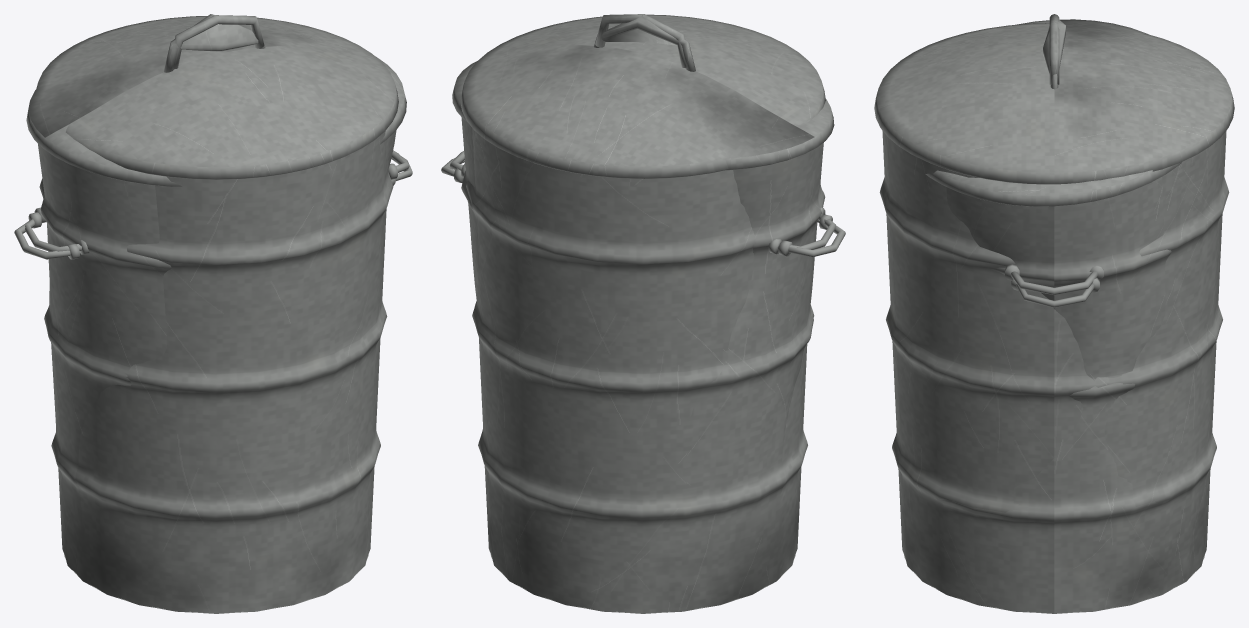
Rendered from trash_can.glb.
The picture shows the model from 3 angles, left to right: view 1: azimuth 30°, elevation 25°; view 2: azimuth 150°, elevation 25°; view 3: azimuth 270°, elevation 25°; orthographic projection.
Parts seen in each view (by area): view 1: TrashCan_Clean_can, TrashCan_Clean_lid, TrashCan_Dented_can, TrashCan_Dented_lid; view 2: TrashCan_Clean_can, TrashCan_Clean_lid, TrashCan_Dented_can, TrashCan_Dented_lid; view 3: TrashCan_Clean_can, TrashCan_Dented_can, TrashCan_Clean_lid, TrashCan_Dented_lid.
Boxes of the visible parts, x1,y1,x2,y2 form: TrashCan_Clean_can: (25, 131, 409, 613); TrashCan_Clean_lid: (36, 15, 398, 179); TrashCan_Dented_can: (14, 130, 412, 612); TrashCan_Dented_lid: (26, 14, 406, 186); TrashCan_Clean_can: (450, 128, 836, 613); TrashCan_Clean_lid: (461, 14, 825, 178); TrashCan_Dented_can: (441, 117, 845, 611); TrashCan_Dented_lid: (452, 15, 834, 170); TrashCan_Clean_can: (879, 130, 1229, 613); TrashCan_Dented_can: (921, 177, 1204, 613); TrashCan_Clean_lid: (874, 14, 1234, 184); TrashCan_Dented_lid: (925, 19, 1181, 206).
Size of the model in its own units: 0.6238 by 0.828 by 0.512.
Materials: 1 (1 with a texture image).
